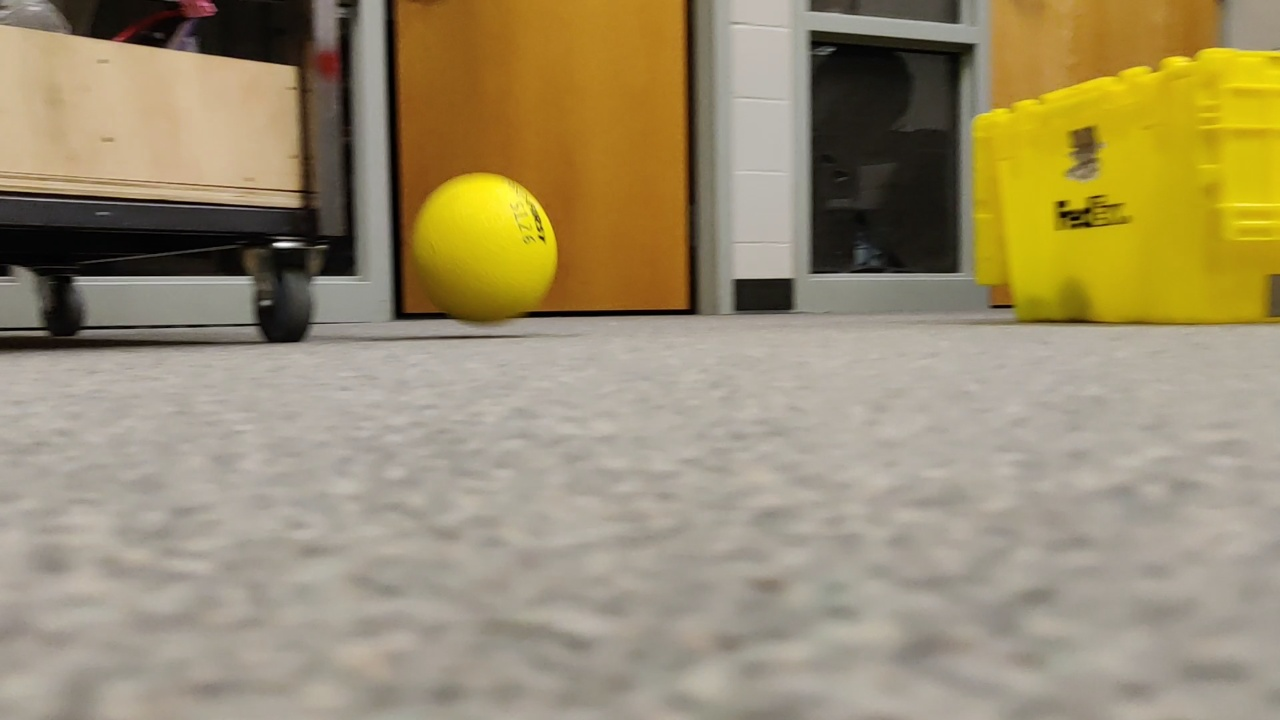Ball: (412, 163, 563, 331)
